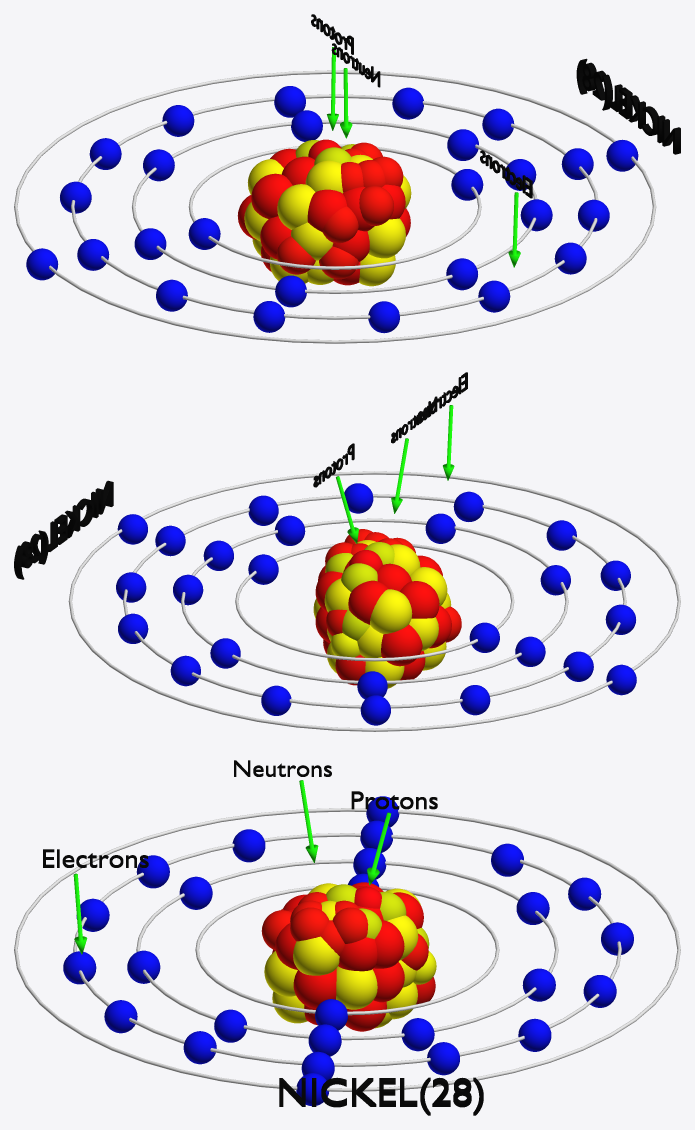
Rendered from Nickel Atomic Model.gltf.
3 views of the same model, one above another, from view 1: azimuth 30°, elevation 25°; view 2: azimuth 150°, elevation 25°; view 3: azimuth 270°, elevation 25° (orthographic). The views are drawn at different scales.
Visible parts, largest first — view 1: Sphere.038, Torus.003, Torus.002, Torus.001, Text.003, Torus, Sphere.001, Sphere.002, Sphere.004, Sphere.018, Sphere.019, Sphere.028 (+30 smaller); view 2: Sphere.038, Torus.003, Torus.002, Torus.001, Text.003, Torus, Sphere.037, Sphere.022, Sphere.024, Sphere.034, Sphere.036, Sphere.014 (+21 smaller); view 3: Sphere.038, Torus.003, Torus.002, Torus.001, Text.003, Torus, Sphere.006, Sphere.007, Sphere.017, Sphere.026, Sphere.025, Sphere.019 (+25 smaller).
Part boxes in pixels (x1,y1,x2,y2): Sphere.038: (237,140,411,286); Torus.003: (14,70,656,343); Torus.002: (71,94,598,319); Torus.001: (132,120,537,293); Text.003: (576,58,680,154); Torus: (188,144,481,269); Sphere.001: (359,186,393,225); Sphere.002: (322,206,358,243); Sphere.004: (276,236,315,274); Sphere.018: (253,301,285,332); Sphere.019: (275,275,306,307); Sphere.028: (392,87,423,119); Sphere.038: (313,540,451,688); Torus.003: (68,471,680,731); Torus.002: (123,494,626,708); Torus.001: (181,518,568,683); Text.003: (14,480,113,579); Torus: (235,543,514,661); Sphere.037: (360,695,390,725); Sphere.022: (425,513,455,543); Sphere.024: (248,495,278,525); Sphere.034: (261,685,291,715); Sphere.036: (460,685,490,715); Sphere.014: (515,636,545,666); Sphere.038: (264,882,435,1031); Torus.003: (14,808,680,1091); Torus.002: (73,833,621,1066); Torus.001: (136,859,558,1040); Text.003: (279,1077,483,1115); Torus: (195,886,499,1015); Sphere.006: (290,907,329,941); Sphere.007: (332,907,368,943); Sphere.017: (232,829,265,862); Sphere.026: (401,1018,434,1051); Sphere.025: (214,1009,247,1042); Sphere.019: (179,876,212,909).
Size of the model in its own units: 7.31 by 2.87 by 6.75.
